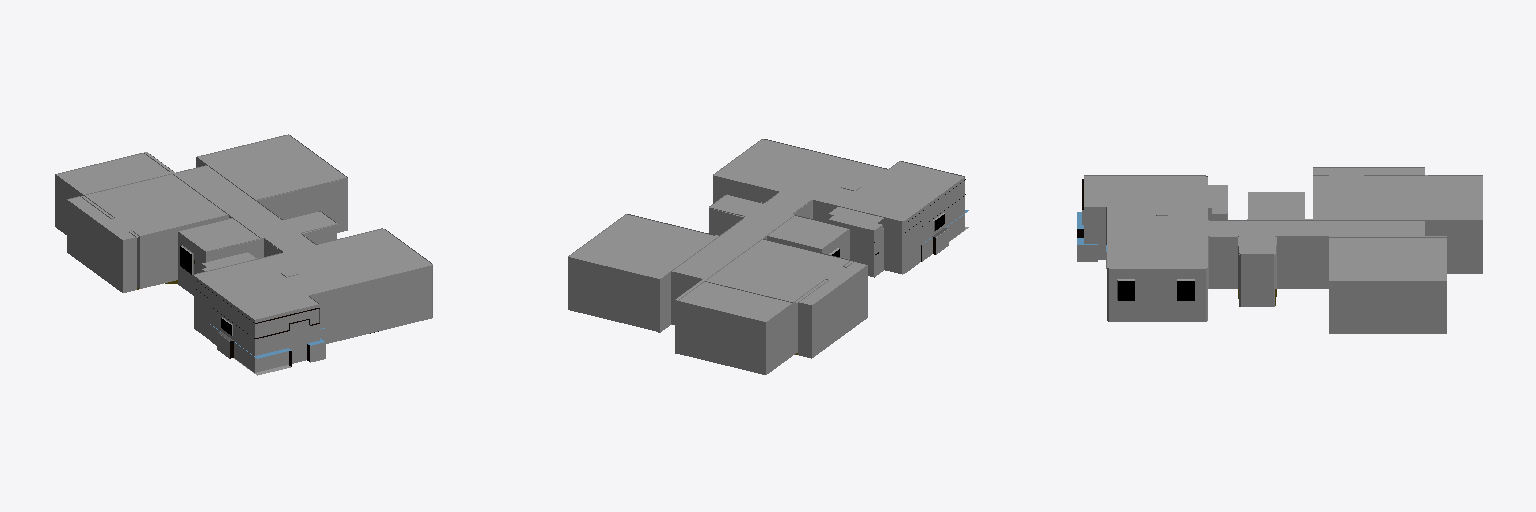
Rendered from GJRoom3.0.obj.
3 renders of one model, left to right at view 1: azimuth 30°, elevation 25°; view 2: azimuth 150°, elevation 25°; view 3: azimuth 270°, elevation 25°, orthographic.
Parts seen in each view (by area): view 1: GJRoom3.0; view 2: GJRoom3.0; view 3: GJRoom3.0.
Part boxes in pixels (left/top/right/bottom): GJRoom3.0: left=55, top=134, right=432, bottom=375; GJRoom3.0: left=568, top=139, right=968, bottom=374; GJRoom3.0: left=1077, top=167, right=1482, bottom=333.
Size of the model in its own units: 1565 by 411 by 2354.